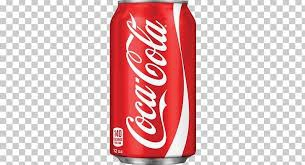can: (107, 0, 199, 165)
